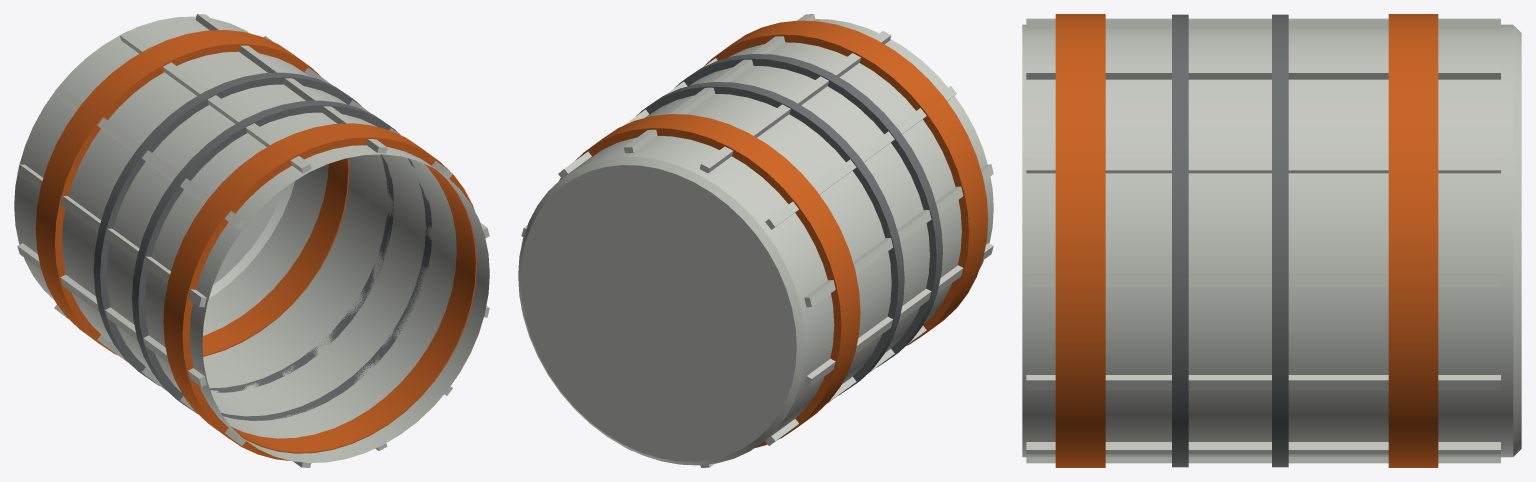
File: u65m_housing.obj
3 renders of one model, left to right at view 1: azimuth 30°, elevation 25°; view 2: azimuth 150°, elevation 25°; view 3: azimuth 270°, elevation 25°, orthographic. The views are drawn at different scales.
Parts seen in each view (by area): view 1: u65m_housing; view 2: u65m_housing; view 3: u65m_housing.
Boxes of the visible parts, x1,y1,x2,y2 form: u65m_housing: [14, 14, 489, 467]; u65m_housing: [518, 14, 993, 467]; u65m_housing: [1022, 14, 1521, 467].
Bounding box in the file's own units: 2.73 × 2.73 × 3.
